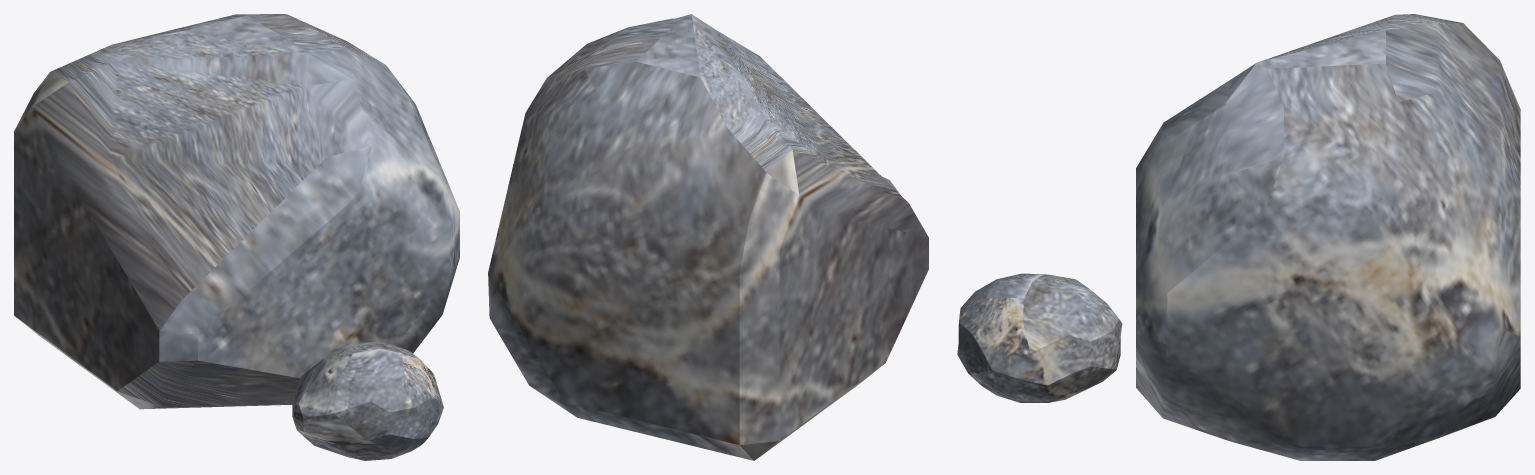
Rendered from Caillou 1.fbx.
3 views of the same model, side by side, from view 1: azimuth 30°, elevation 25°; view 2: azimuth 150°, elevation 25°; view 3: azimuth 270°, elevation 25° (orthographic). The views are drawn at different scales.
Parts seen in each view (by area): view 1: Caillou 1; view 2: Caillou 1; view 3: Caillou 1.
Boxes of the visible parts, x1,y1,x2,y2 form: Caillou 1: (14, 14, 459, 460); Caillou 1: (488, 14, 928, 460); Caillou 1: (957, 14, 1520, 460).
Size of the model in its own units: 8.81 by 8.89 by 12.9.
